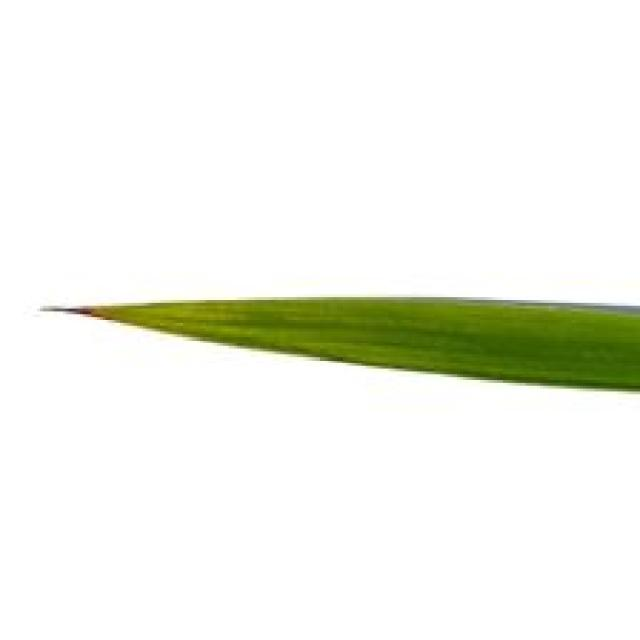Rice___Healthy_Rice_Plant: (37, 296, 637, 393)
